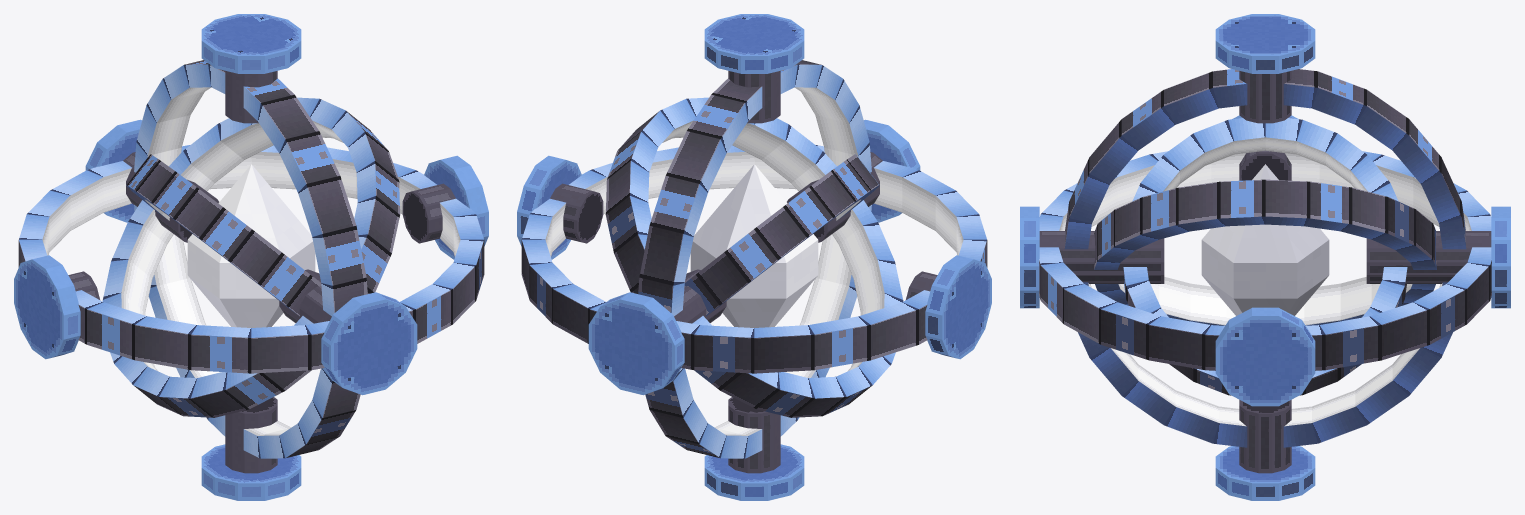
File: regen2.glb
The picture shows the model from 3 angles, left to right: view 1: azimuth 30°, elevation 25°; view 2: azimuth 150°, elevation 25°; view 3: azimuth 270°, elevation 25°; orthographic projection.
Visible parts, largest first — view 1: regen2_mount, regen2_ring0, regen2_ring1, regen2_ring2, regen2_crystal, regen2_ring3, regen2_glow0, regen2_glow2, regen2_glow1; view 2: regen2_mount, regen2_ring0, regen2_ring1, regen2_ring2, regen2_crystal, regen2_ring3, regen2_glow0, regen2_glow2, regen2_glow1; view 3: regen2_mount, regen2_ring1, regen2_ring0, regen2_ring2, regen2_ring3, regen2_crystal, regen2_glow2, regen2_glow0, regen2_glow1, regen2_glow3.
Boxes of the visible parts, x1=… form: regen2_mount: x1=14, y1=14, x2=488, y2=500; regen2_ring0: x1=18, y1=145, x2=484, y2=373; regen2_ring1: x1=134, y1=60, x2=367, y2=458; regen2_ring2: x1=102, y1=97, x2=400, y2=417; regen2_crystal: x1=187, y1=164, x2=315, y2=327; regen2_ring3: x1=126, y1=154, x2=321, y2=316; regen2_glow0: x1=42, y1=152, x2=460, y2=256; regen2_glow2: x1=121, y1=120, x2=343, y2=371; regen2_glow1: x1=147, y1=87, x2=290, y2=435; regen2_mount: x1=517, y1=14, x2=991, y2=500; regen2_ring0: x1=521, y1=145, x2=987, y2=373; regen2_ring1: x1=638, y1=60, x2=871, y2=458; regen2_ring2: x1=605, y1=97, x2=903, y2=417; regen2_crystal: x1=690, y1=164, x2=818, y2=327; regen2_ring3: x1=684, y1=154, x2=879, y2=316; regen2_glow0: x1=545, y1=152, x2=963, y2=256; regen2_glow2: x1=662, y1=120, x2=884, y2=371; regen2_glow1: x1=715, y1=87, x2=858, y2=435; regen2_mount: x1=1020, y1=14, x2=1510, y2=500; regen2_ring1: x1=1064, y1=69, x2=1466, y2=447; regen2_ring0: x1=1039, y1=151, x2=1491, y2=370; regen2_ring2: x1=1094, y1=179, x2=1436, y2=325; regen2_ring3: x1=1123, y1=118, x2=1407, y2=395; regen2_crystal: x1=1201, y1=164, x2=1329, y2=315; regen2_glow2: x1=1118, y1=277, x2=1412, y2=325; regen2_glow0: x1=1059, y1=153, x2=1471, y2=230; regen2_glow1: x1=1088, y1=283, x2=1442, y2=426; regen2_glow3: x1=1163, y1=137, x2=1367, y2=191.
Bounding box in the file's own units: 1 × 1 × 1.
1 material, 1 textured.
